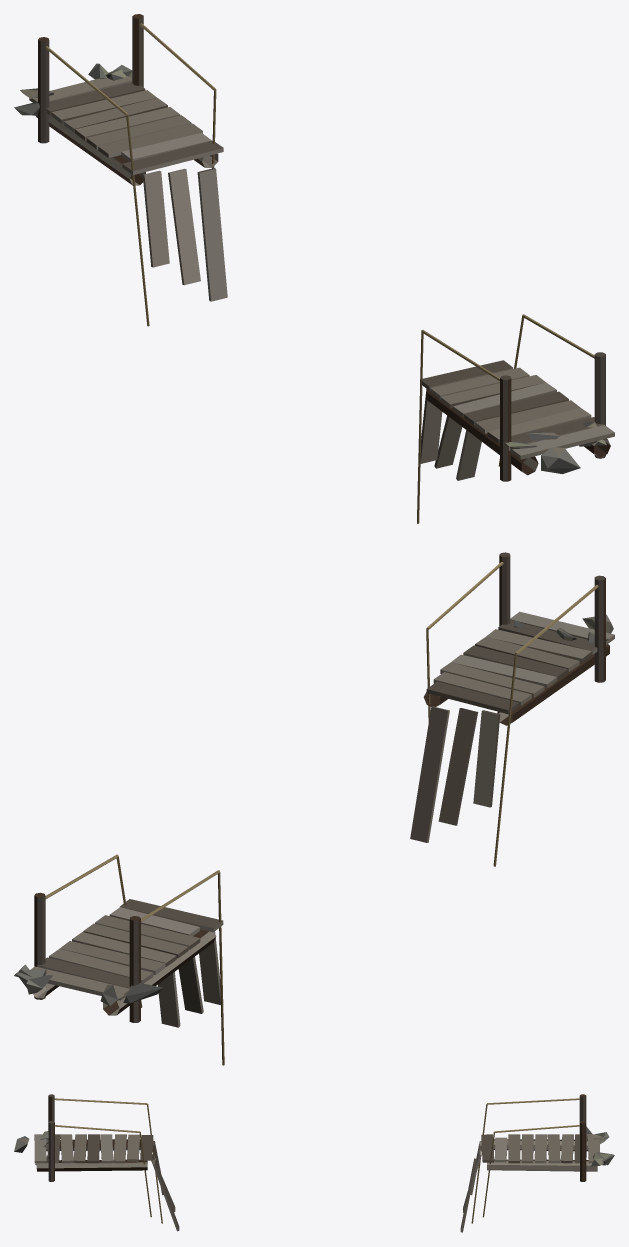
The model's file is bridge-broken.glb.
3 views of the same model, one above another, from view 1: azimuth 30°, elevation 25°; view 2: azimuth 150°, elevation 25°; view 3: azimuth 270°, elevation 25° (orthographic). The views are drawn at different scales.
Parts seen in each view (by area): view 1: bridge-broken; view 2: bridge-broken; view 3: bridge-broken.
Boxes of the visible parts, x1,y1,x2,y2 form: bridge-broken: (14, 14, 614, 523); bridge-broken: (14, 552, 614, 1065); bridge-broken: (14, 1094, 614, 1232).
Size of the model in its own units: 2.41 by 3.75 by 16.29.
